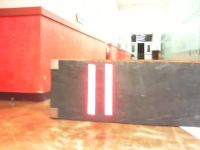switch: (86, 63, 96, 116), (104, 63, 113, 116)
